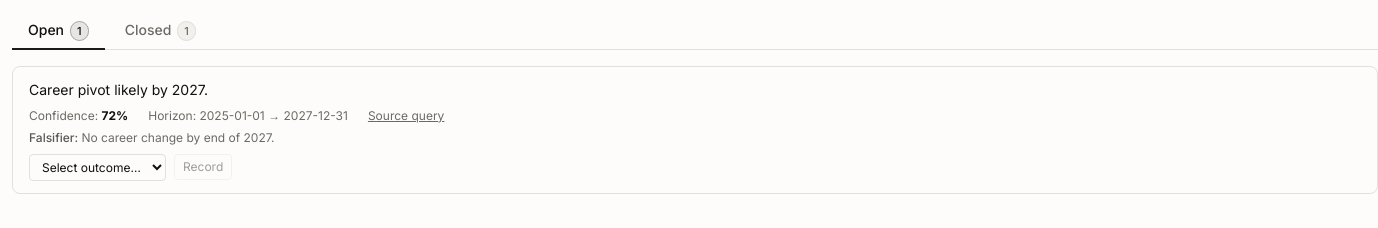
Test case: PredictionLedgerClient › switches to closed tab
The image size is (1378, 228).
Click the tab "Closed1" at (160, 31), box top-left (109, 12), bottom-right (212, 50)
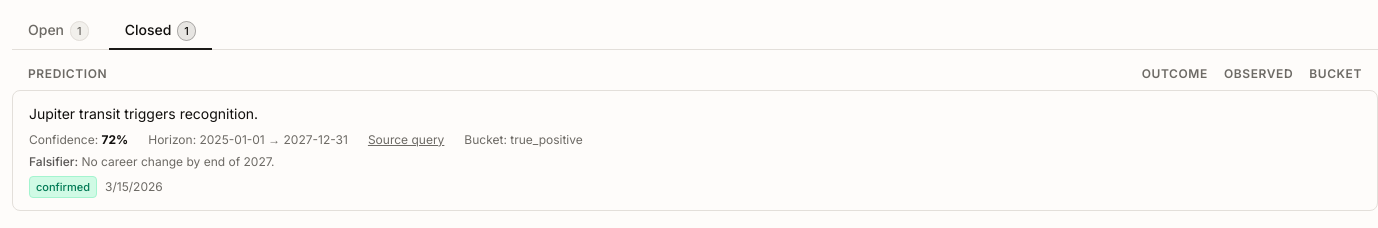
Now the text "Jupiter transit triggers recognition." is shown, box top-left (29, 105), bottom-right (258, 122)
Now the text "Career pivot likely by 2027." is gone
